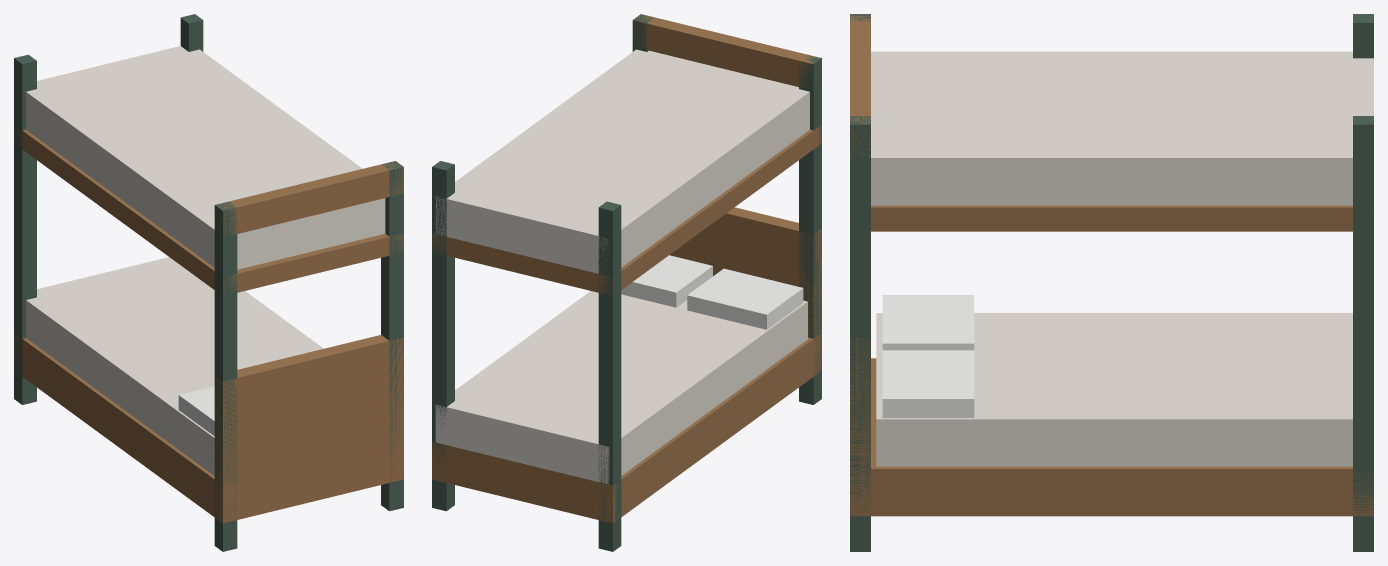
3 renders of one model, left to right at view 1: azimuth 30°, elevation 25°; view 2: azimuth 150°, elevation 25°; view 3: azimuth 270°, elevation 25°, orthographic. The views are drawn at different scales.
Visible parts, largest first — view 1: upper-mattress, mattress, headboard, frame, upper-frame, post-0-1, upper-back, post-0-0, post-1-1, pillow-0, post-1-0; view 2: upper-mattress, mattress, frame, headboard, upper-frame, post-0-0, post-1-0, upper-back, post-0-1, pillow-0, pillow-1, post-1-1; view 3: upper-mattress, mattress, frame, upper-frame, post-1-0, post-1-1, pillow-1, pillow-0, headboard, upper-back, post-0-0.
Part boxes in pixels (x1,y1,x2,y2): upper-mattress: (26, 46, 385, 269); mattress: (26, 257, 323, 475); headboard: (214, 335, 403, 522); frame: (14, 333, 403, 523); upper-frame: (14, 127, 403, 293); post-0-1: (214, 202, 237, 551); upper-back: (214, 161, 403, 237); post-0-0: (14, 54, 36, 404); post-1-1: (381, 161, 403, 511); pillow-0: (178, 386, 214, 435); post-1-0: (180, 14, 203, 51); upper-mattress: (435, 49, 809, 273); mattress: (435, 291, 807, 484); frame: (432, 333, 821, 523); headboard: (669, 207, 821, 371); upper-frame: (432, 125, 821, 294); post-0-0: (598, 201, 621, 551); post-1-0: (432, 161, 454, 511); upper-back: (633, 14, 821, 89); post-0-1: (799, 55, 821, 404); pillow-0: (687, 268, 803, 329); pillow-1: (621, 255, 712, 307); post-1-1: (632, 14, 653, 51); upper-mattress: (871, 51, 1373, 205); mattress: (876, 313, 1352, 466); frame: (850, 358, 1373, 516); upper-frame: (851, 205, 1371, 231); post-1-0: (1353, 116, 1373, 551); post-1-1: (850, 116, 870, 551); pillow-1: (882, 350, 974, 417); pillow-0: (882, 295, 974, 350); headboard: (850, 338, 870, 516); upper-back: (850, 14, 870, 157); post-0-0: (1353, 14, 1373, 58).
Size of the model in its own units: 1 by 1.8 by 2.
